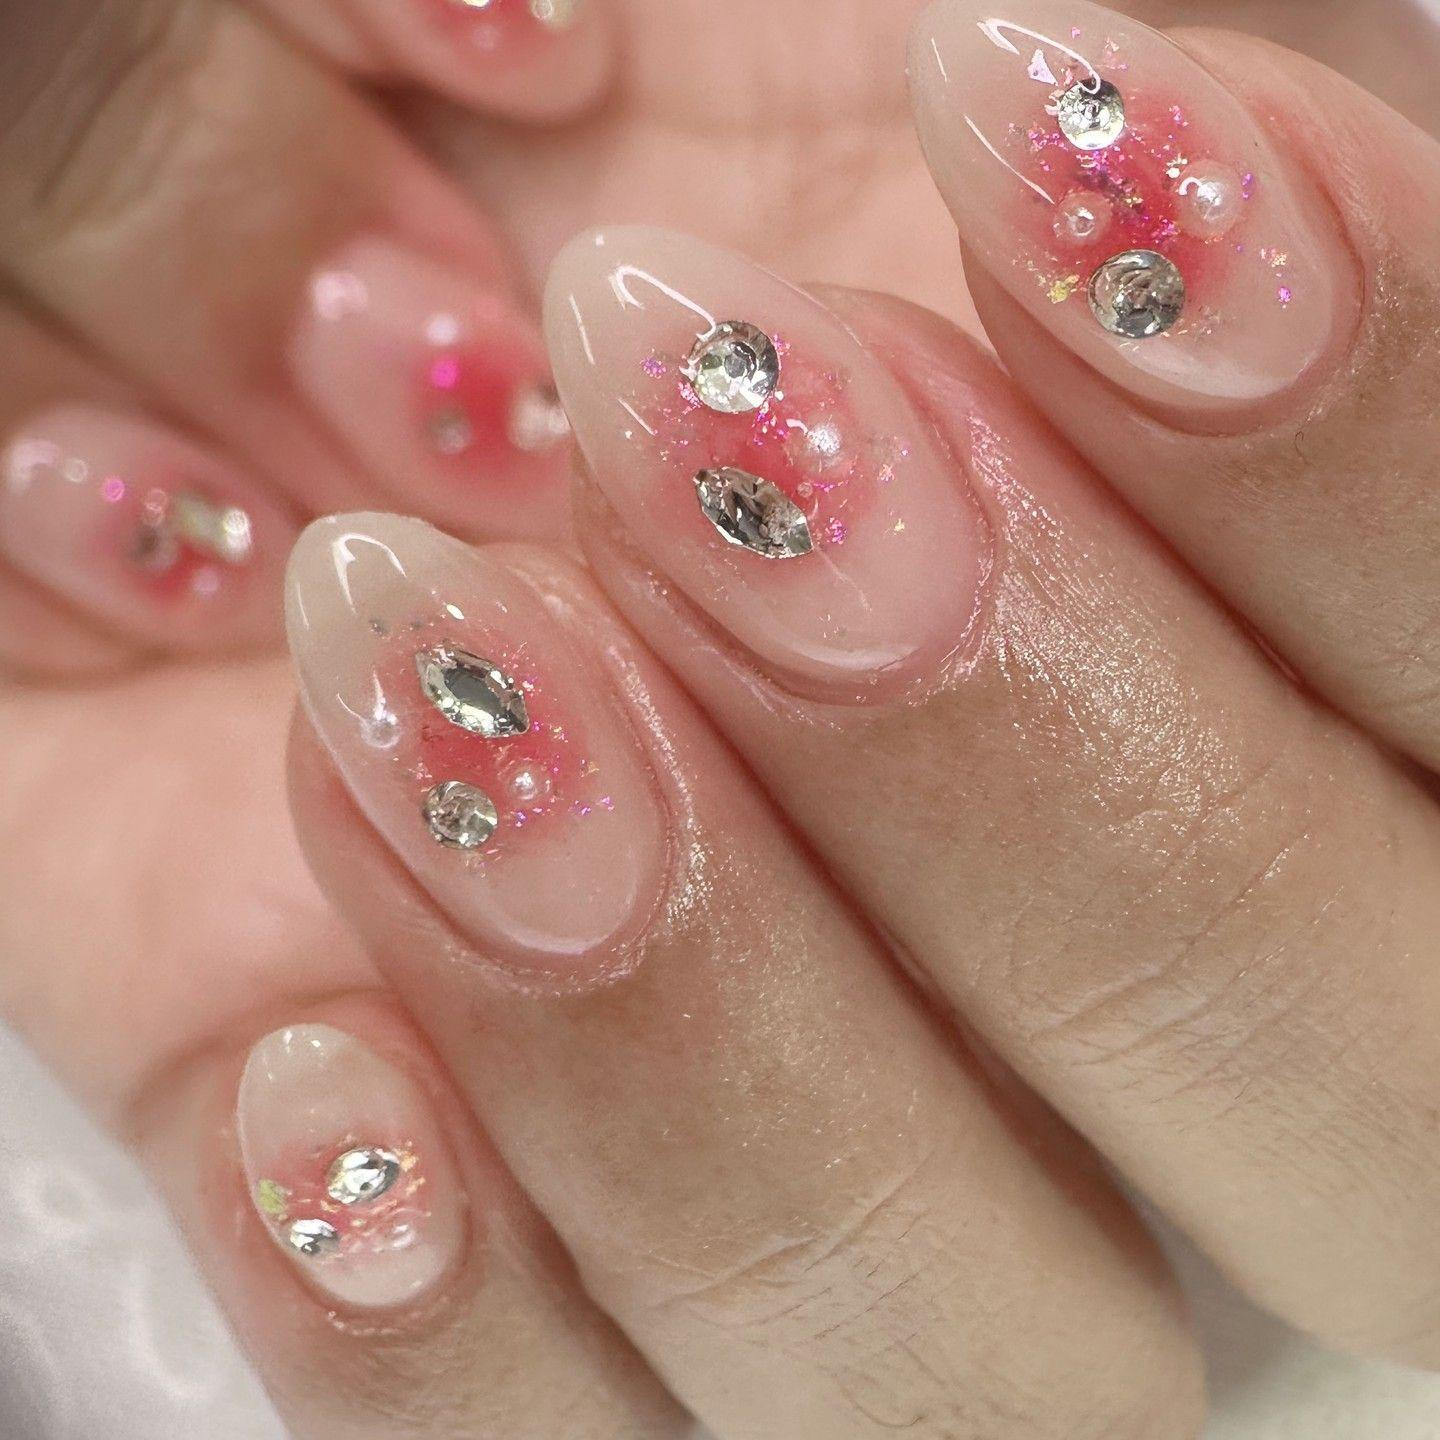nail: (541, 219, 1000, 713), (903, 0, 1369, 436), (280, 506, 678, 996), (280, 228, 576, 546), (231, 1019, 476, 1327), (0, 396, 276, 647)
